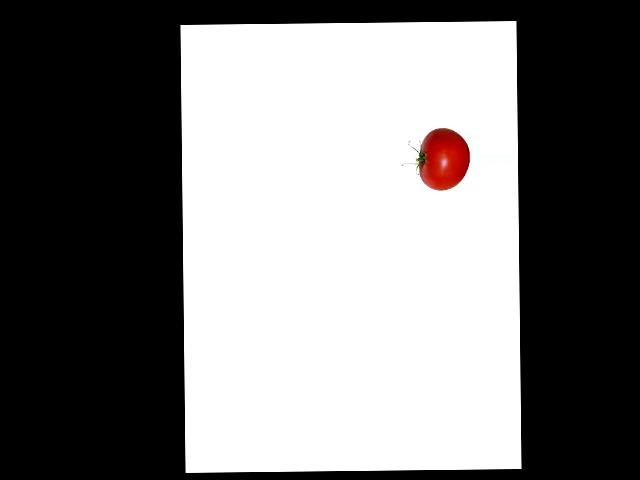tomato: (418, 128, 470, 191)
